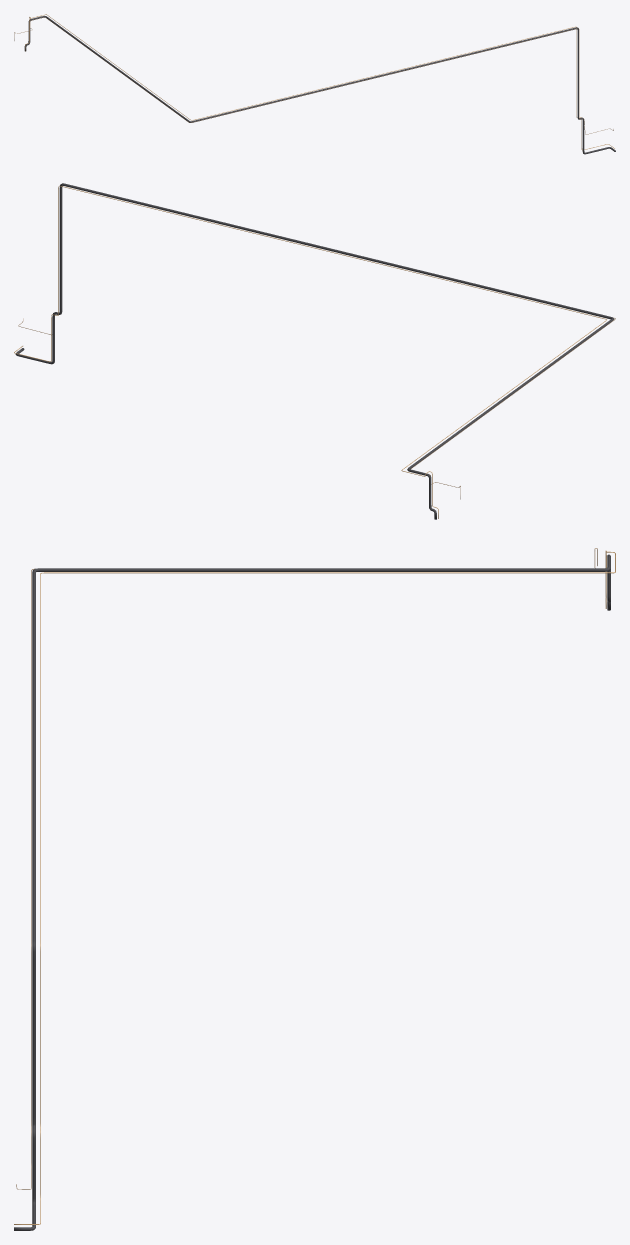
File: slab_pipes_hvac__hvac-split_furnace_98.glb
3 renders of one model, top to bottom at view 1: azimuth 30°, elevation 25°; view 2: azimuth 150°, elevation 25°; view 3: azimuth 270°, elevation 25°, orthographic. The views are drawn at different scales.
Parts seen in each view (by area): view 1: pipe_hvac_lineset_suction_rd18ay36, pipe_hvac_lineset_liquid_rd18ay36, pipe_hvac_lineset_tstat_cable_rd18ay36; view 2: pipe_hvac_lineset_suction_rd18ay36, pipe_hvac_lineset_liquid_rd18ay36; view 3: pipe_hvac_lineset_suction_rd18ay36, pipe_hvac_lineset_liquid_rd18ay36.
Boxes of the visible parts, left/top/right/bottom form: pipe_hvac_lineset_suction_rd18ay36: left=24, top=16, right=615, bottom=154; pipe_hvac_lineset_liquid_rd18ay36: left=25, top=14, right=614, bottom=150; pipe_hvac_lineset_tstat_cable_rd18ay36: left=14, top=17, right=613, bottom=134; pipe_hvac_lineset_suction_rd18ay36: left=15, top=183, right=614, bottom=519; pipe_hvac_lineset_liquid_rd18ay36: left=14, top=185, right=606, bottom=518; pipe_hvac_lineset_suction_rd18ay36: left=14, top=554, right=610, bottom=1230; pipe_hvac_lineset_liquid_rd18ay36: left=14, top=550, right=615, bottom=1224.
Size of the model in its own units: 12 by 3.29 by 6.94.
